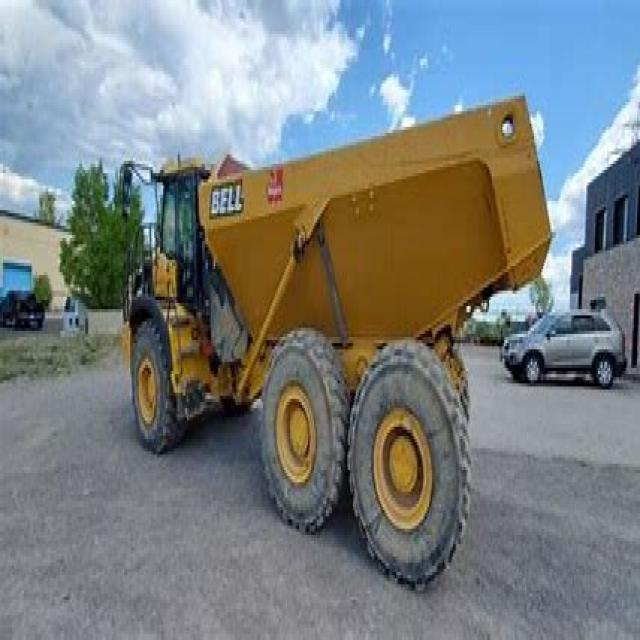dump_truck: (121, 99, 550, 575)
